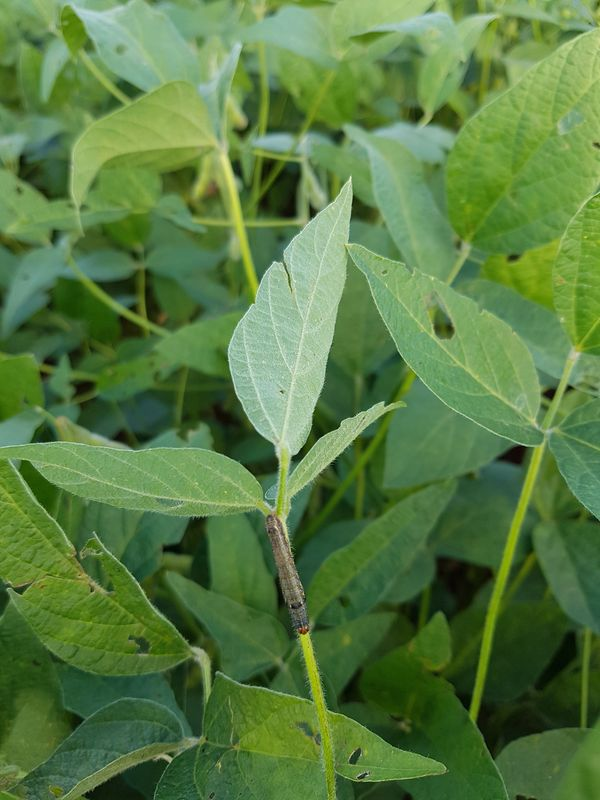Spodoptera_albula: (240, 506, 331, 644)
